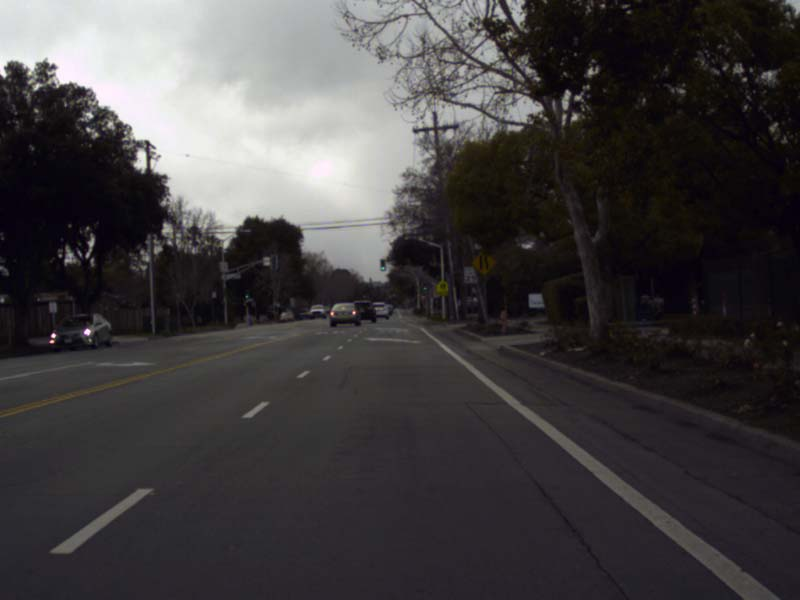Green: (379, 258, 385, 270), (245, 289, 249, 300), (423, 282, 426, 292)
